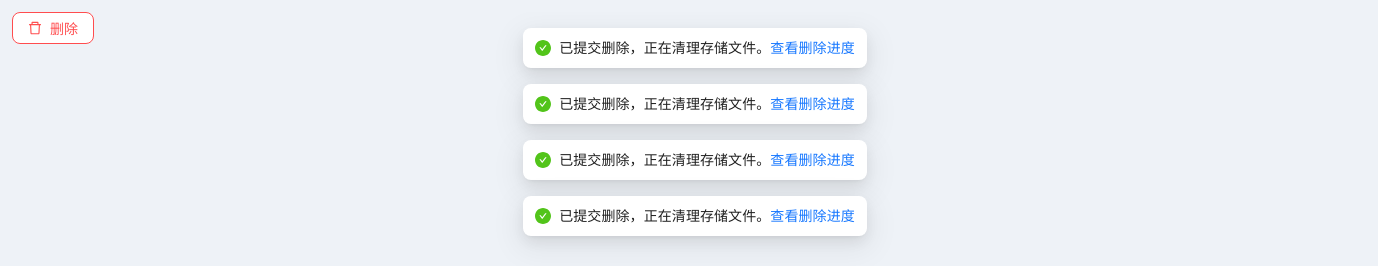
Test case: Direct dataset deletion › never offers abort for an unapproved or nonempty upload: {"id":"empty-upload","originalName":"metadata.yaml","status":"CREATED","partCount":0,"createdAt":"2026-
Click the button with aria-label "删除数据集 test01".
click(53, 28)  # box [12, 12, 94, 44]
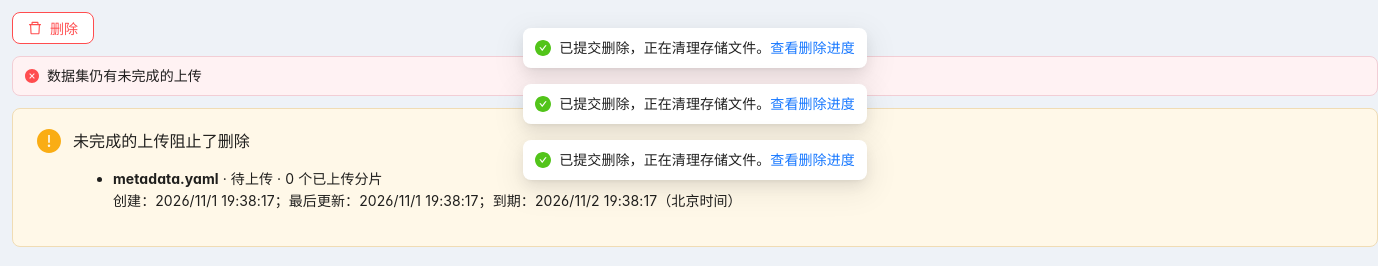
expect the text "metadata.yaml" is shown: met, box [113, 170, 219, 187]
